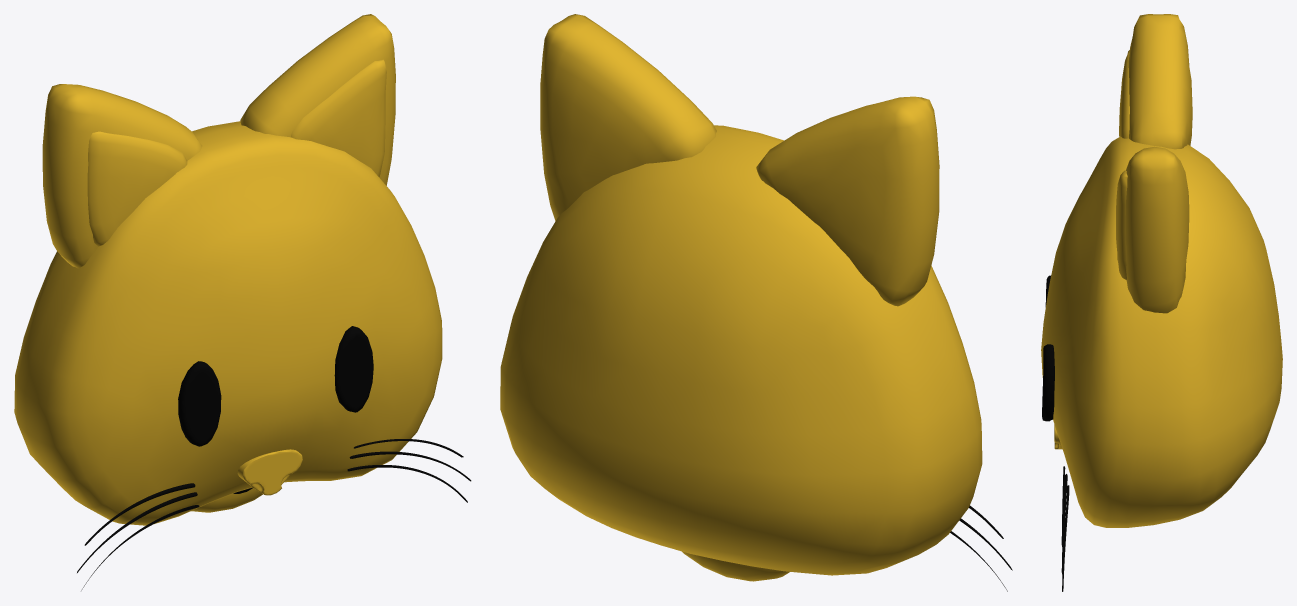
Rendered from cat FBX.glb.
3 renders of one model, left to right at view 1: azimuth 30°, elevation 25°; view 2: azimuth 150°, elevation 25°; view 3: azimuth 270°, elevation 25°, orthographic. The views are drawn at different scales.
Visible parts, largest first — view 1: Cat3, Cat1, Cat2, Cat4, Cat6, cat5, Cxat8; view 2: Cat3, Cat1, Cxat8; view 3: Cat3, Cat1, Cat2, Cat4, Cat6.
Boxes of the visible parts, box(x1,y1,x2,y2) form: Cat3: box(14, 121, 442, 525); Cat1: box(42, 14, 395, 268); Cat2: box(87, 59, 386, 246); Cat4: box(178, 326, 373, 446); Cat6: box(77, 439, 471, 590); cat5: box(237, 449, 302, 495); Cxat8: box(191, 488, 262, 512); Cat3: box(500, 125, 982, 575); Cat1: box(540, 14, 939, 306); Cxat8: box(682, 551, 789, 581); Cat3: box(1041, 136, 1282, 527); Cat1: box(1125, 14, 1192, 313); Cat2: box(1116, 50, 1129, 279); Cat4: box(1042, 275, 1054, 421); Cat6: box(1061, 466, 1069, 591).
Bounding box in the file's own units: 0.5005 × 0.5619 × 0.2916.
